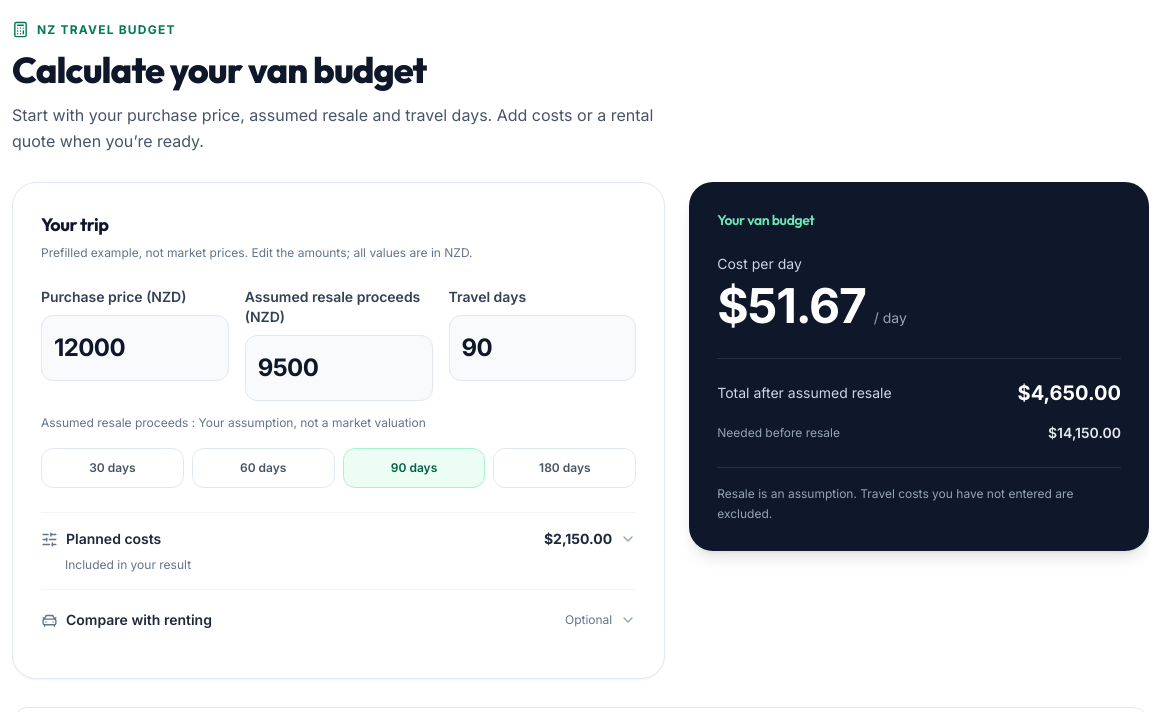
folded costs remain included and their visible total follows edits
Expected: the field labelled "Repairs and servicing budget (NZD)" is not shown
Expected: the text "$2,150.00" is shown, [544,529,612,549]
Click the text "Planned costs" at (114, 539), box [66,529,161,549]
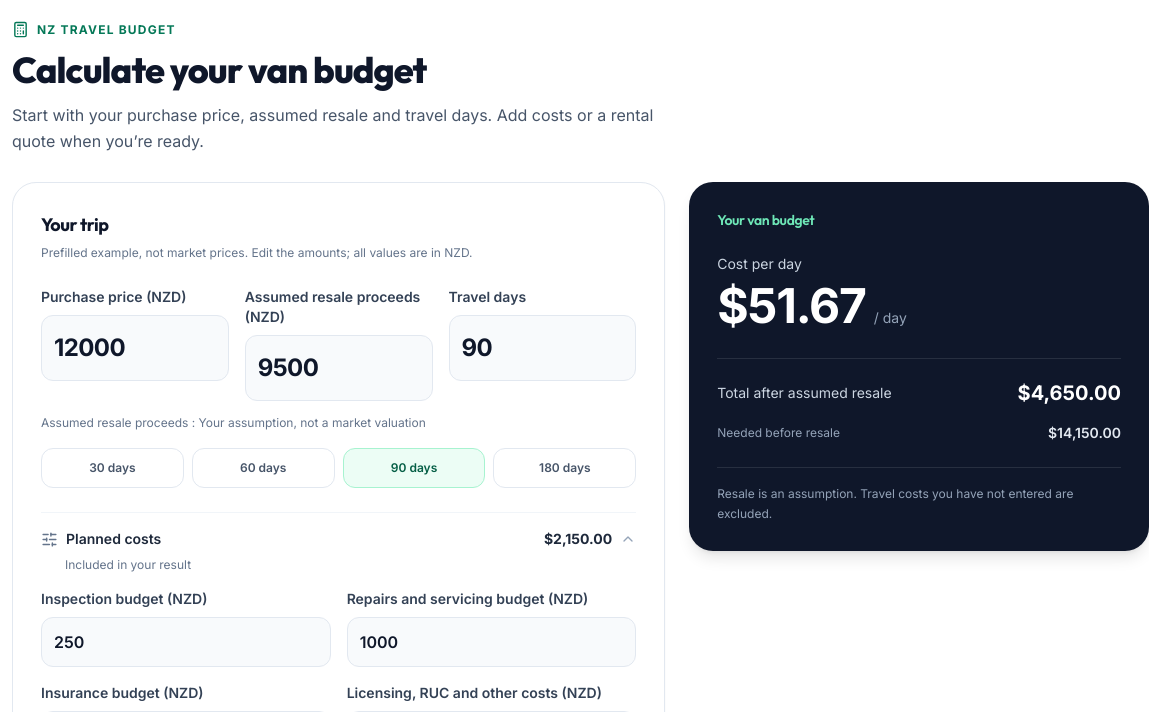
Replace the text in the number field labelled "Repairs and servicing budget (NZD)" with "0" at (491, 642), box [347,617,636,667]
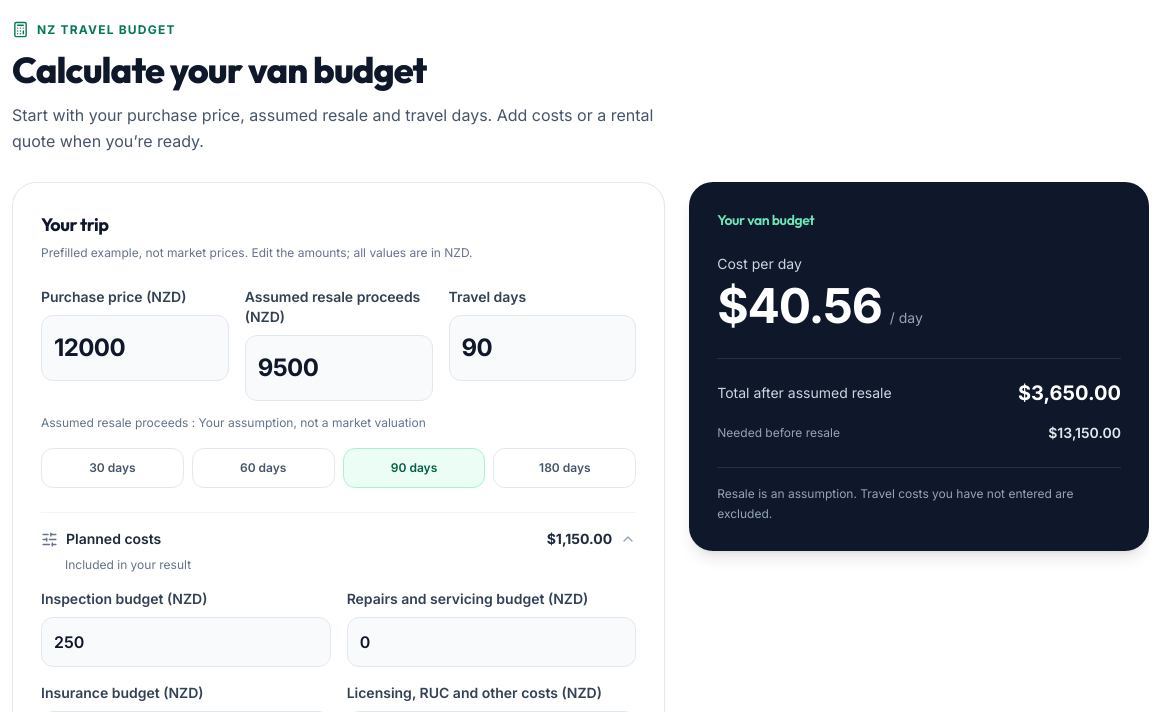
Click the text "Planned costs" at (114, 539), box [66,529,161,549]
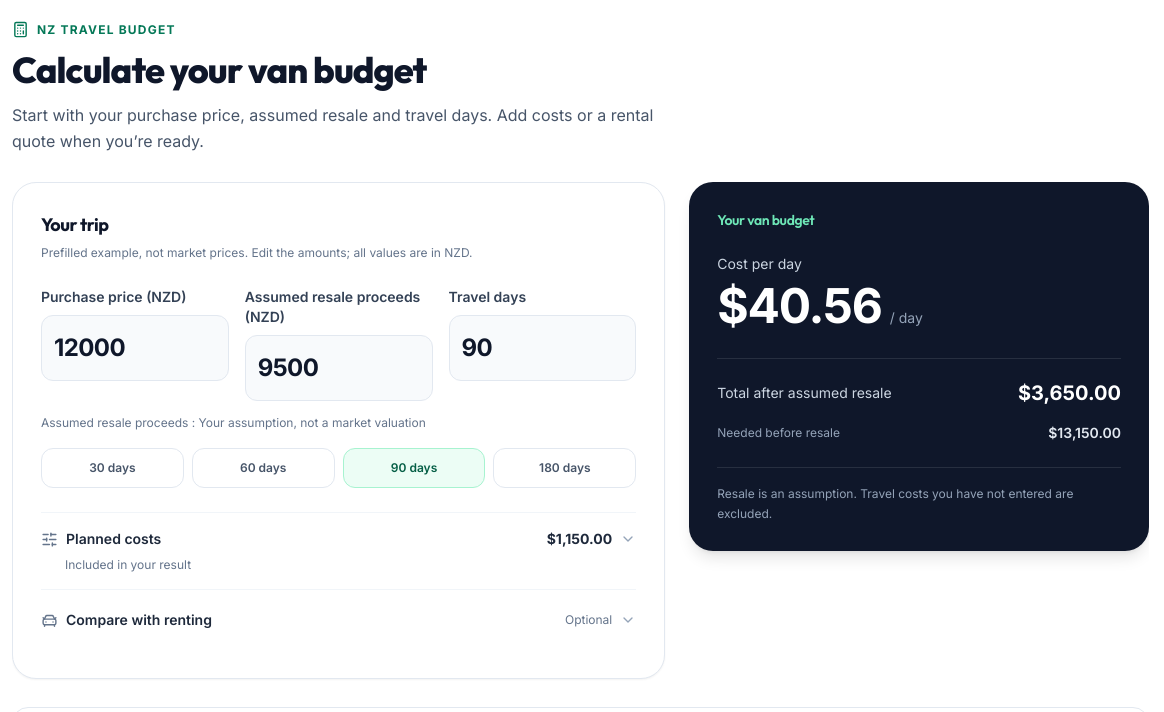
Now the text "$1,150.00" is shown, box [547,529,612,549]
Now the text "$3,650.00" is shown, box [1018,379,1121,407]
Now the label labelled "Repairs and servicing budget (NZD)" is gone
